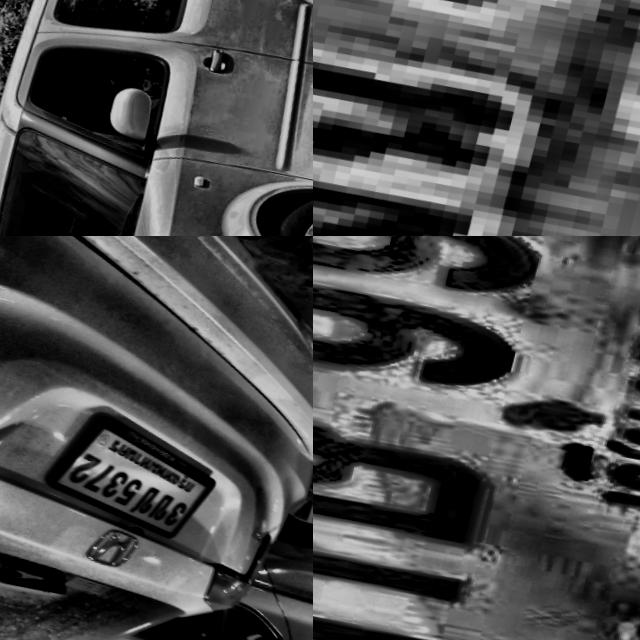license-plate: (313, 236, 640, 640), (313, 0, 640, 236), (126, 450, 261, 568)
